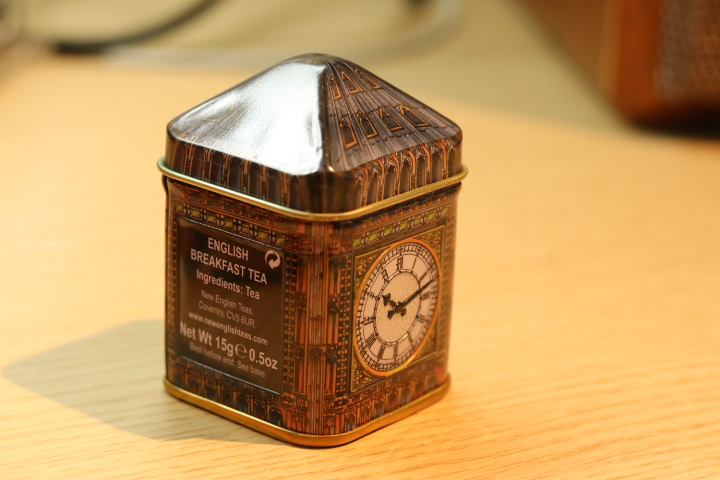Big Ben: (148, 43, 486, 461)
